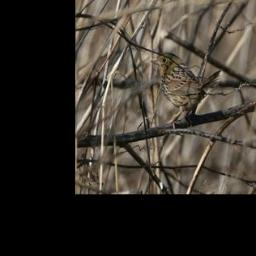Sparrow: (149, 49, 223, 129)
